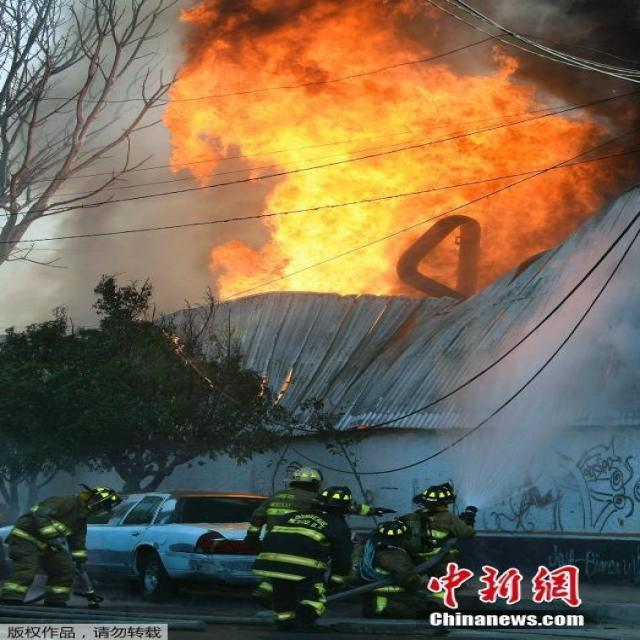Fire: (159, 1, 613, 300)
Smoke: (2, 1, 270, 331), (410, 1, 639, 132)
